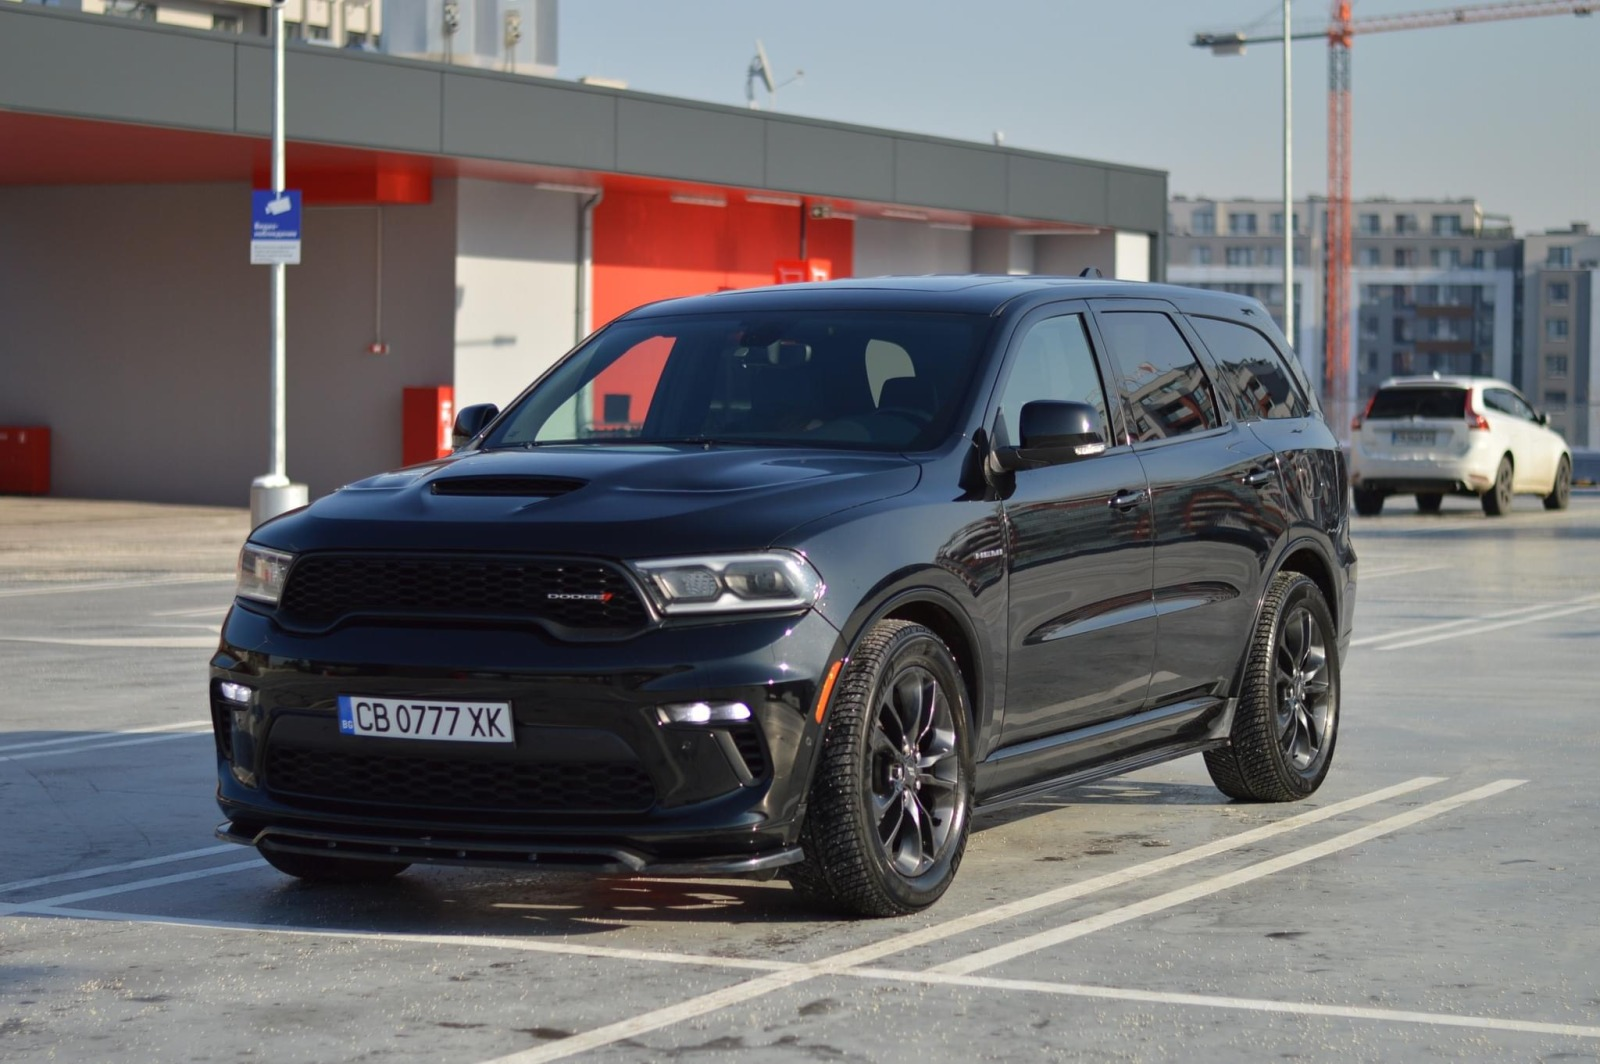registration_plate: (337, 694, 515, 750)
